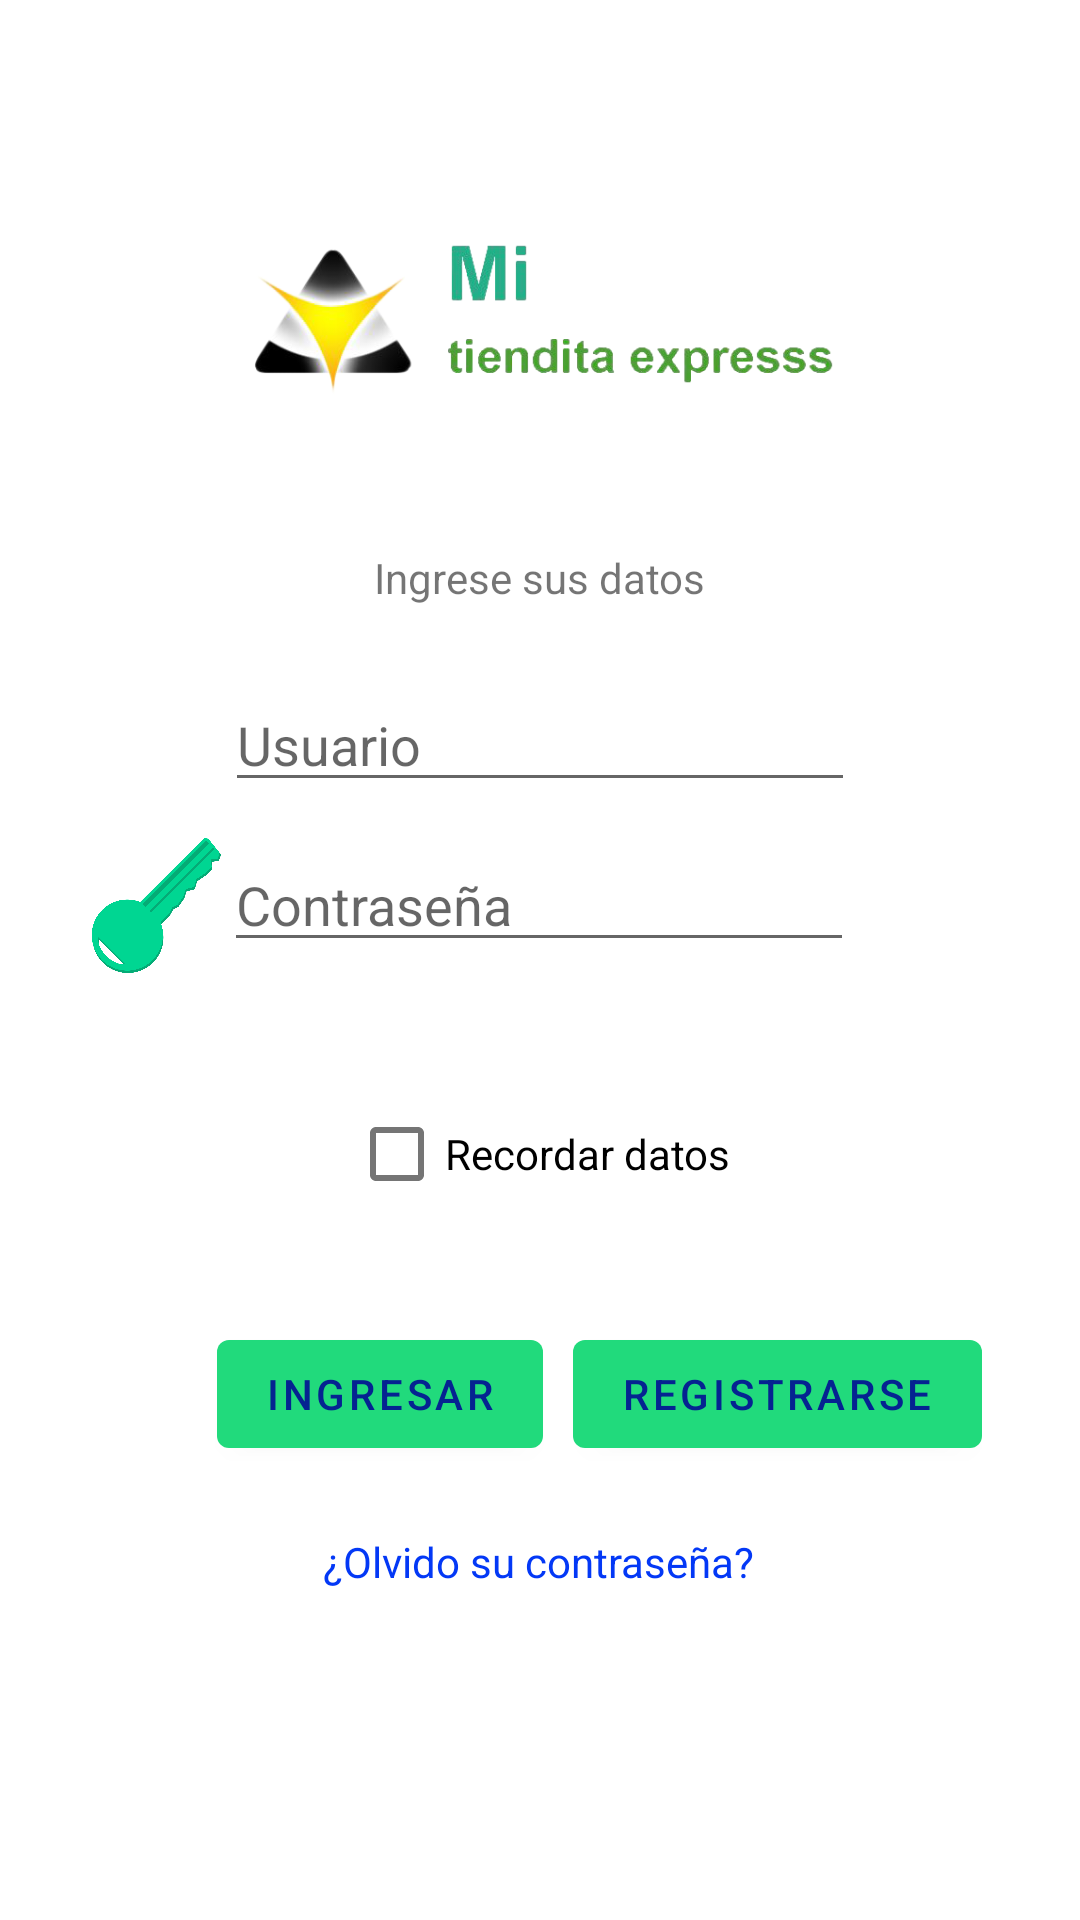

Icon bounding boxes for this 1080×1920 phone screenshot, format detection(x1, y1, x2, y2):
key: detection(92, 838, 221, 973)
